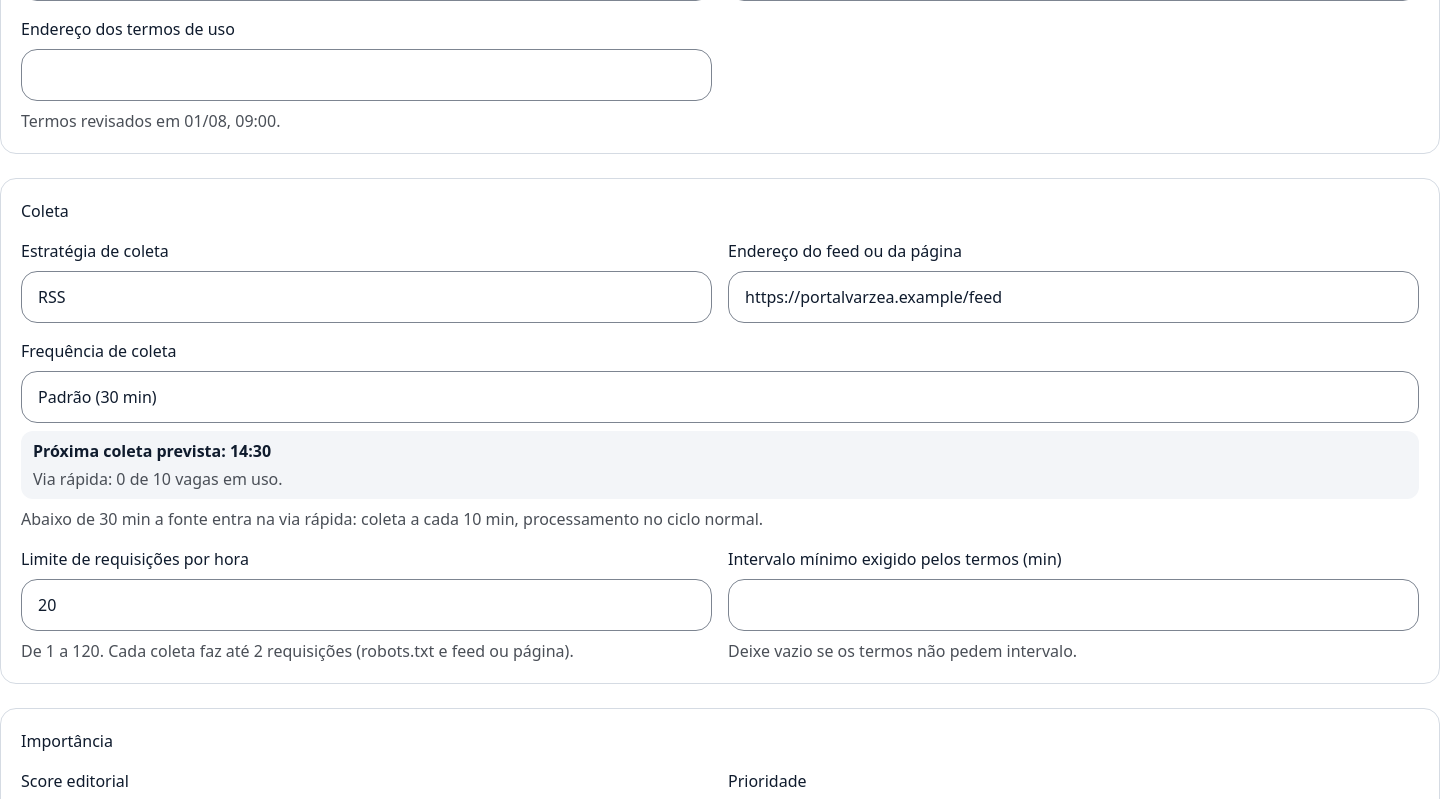
it: SourceConfigForm › robots.txt eleva a frequência efetiva e a tela diz o motivo
(page scrolled)
Select "10 min" in the dropdown labelled "Frequência de coleta": (720, 397) [21,371,1419,423]
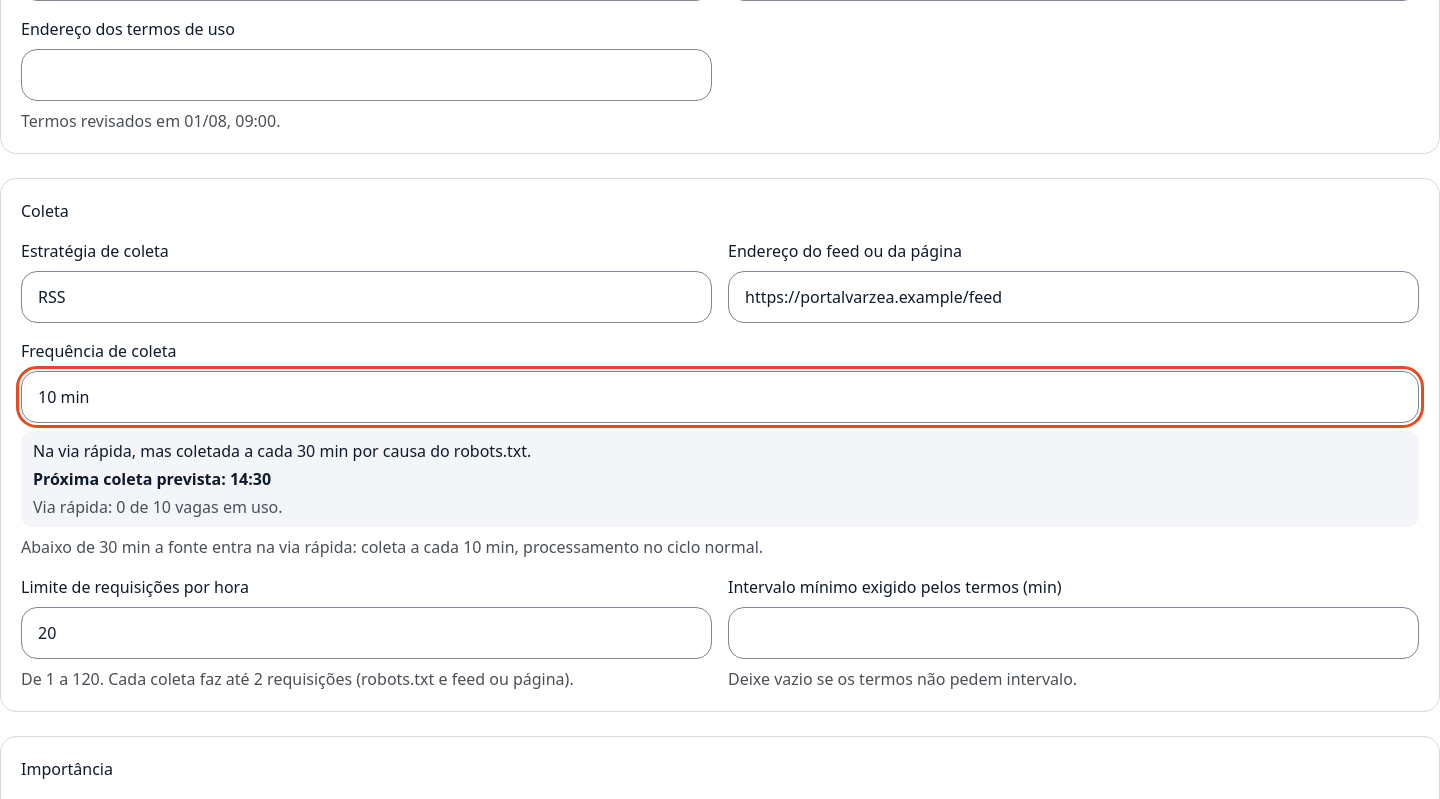
Expected: the text "Na via rápida, mas coletada a cada 30 min por causa do robots.txt." is shown, [33,440,531,462]
